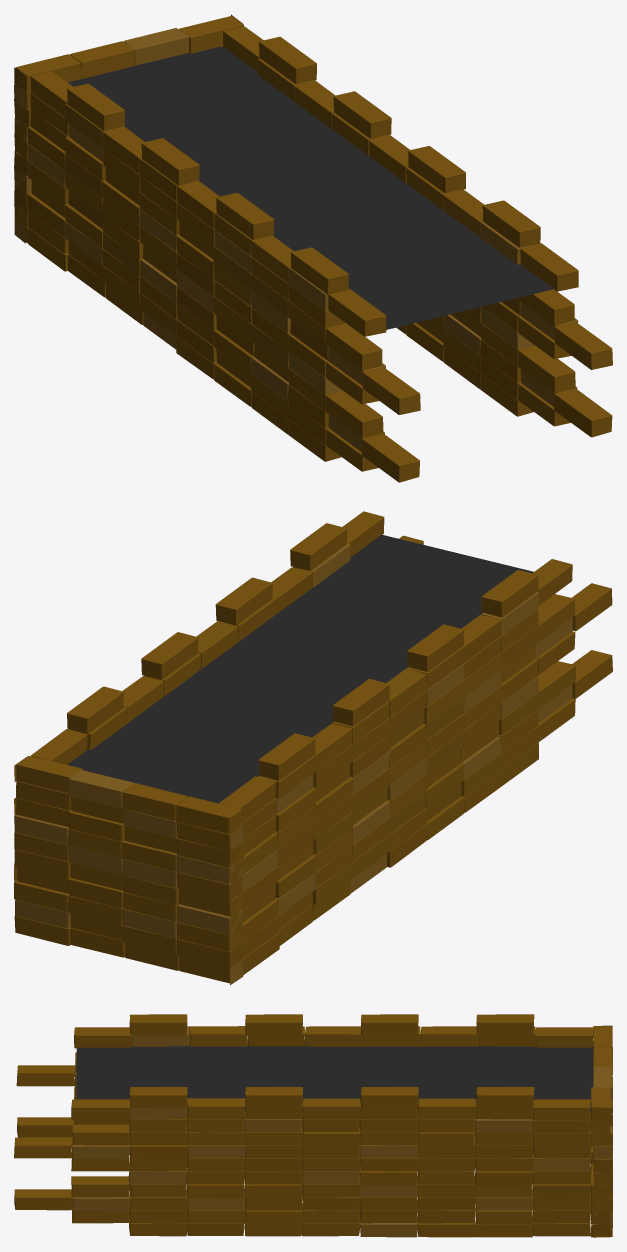
Rendered from Wall_BlockRight.fbx.
3 views of the same model, one above another, from view 1: azimuth 30°, elevation 25°; view 2: azimuth 150°, elevation 25°; view 3: azimuth 270°, elevation 25° (orthographic). The views are drawn at different scales.
Parts seen in each view (by area): view 1: Cube.025, Plane.001, Cube.029, Cube.027, Cube.035, Cube.034; view 2: Cube.025, Plane.001, Cube.027, Cube.029, Cube.035, Cube.034; view 3: Cube.029, Plane.001, Cube.025, Cube.034, Cube.035, Cube.027.
Boxes of the visible parts, <box> form: Cube.025: <box>27,71,420,482</box>; Plane.001: <box>68,46,553,329</box>; Cube.029: <box>219,26,612,437</box>; Cube.027: <box>14,14,243,243</box>; Cube.035: <box>259,36,540,247</box>; Cube.034: <box>67,83,348,294</box>; Cube.025: <box>219,559,612,974</box>; Plane.001: <box>67,534,533,803</box>; Cube.027: <box>14,756,243,985</box>; Cube.029: <box>31,511,423,764</box>; Cube.035: <box>67,523,346,734</box>; Cube.034: <box>258,570,538,780</box>; Cube.029: <box>14,1098,591,1237</box>; Plane.001: <box>76,1044,593,1111</box>; Cube.025: <box>16,1026,593,1143</box>; Cube.034: <box>129,1014,534,1035</box>; Cube.035: <box>129,1087,534,1107</box>; Cube.027: <box>591,1025,612,1237</box>.
Size of the model in its own units: 5.84 by 4.71 by 17.93.
